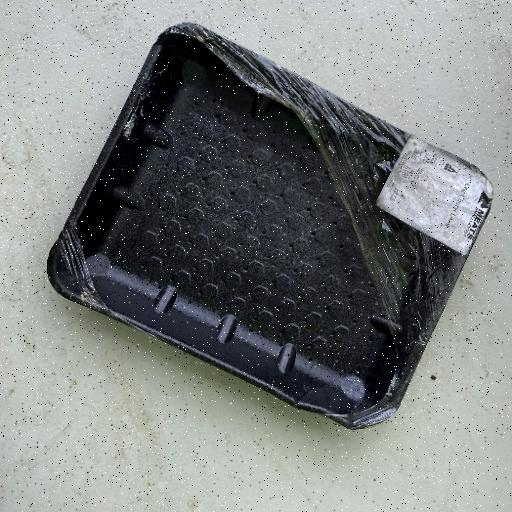Plastic: (44, 20, 494, 430)
